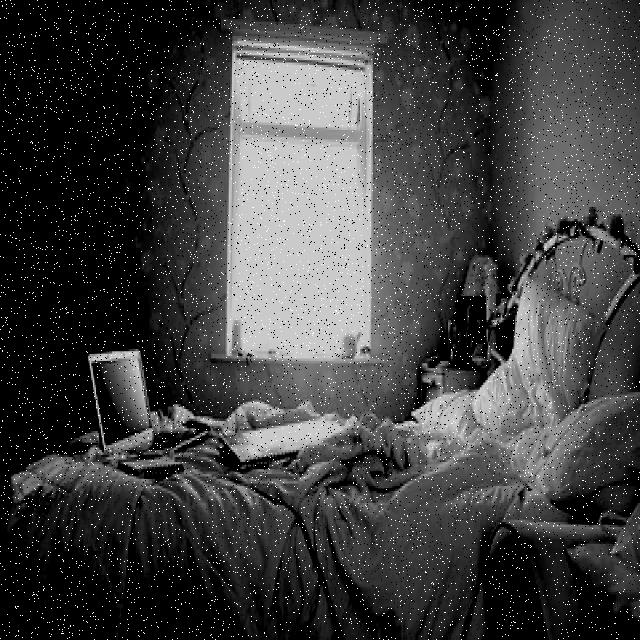bed: (32, 200, 636, 616)
